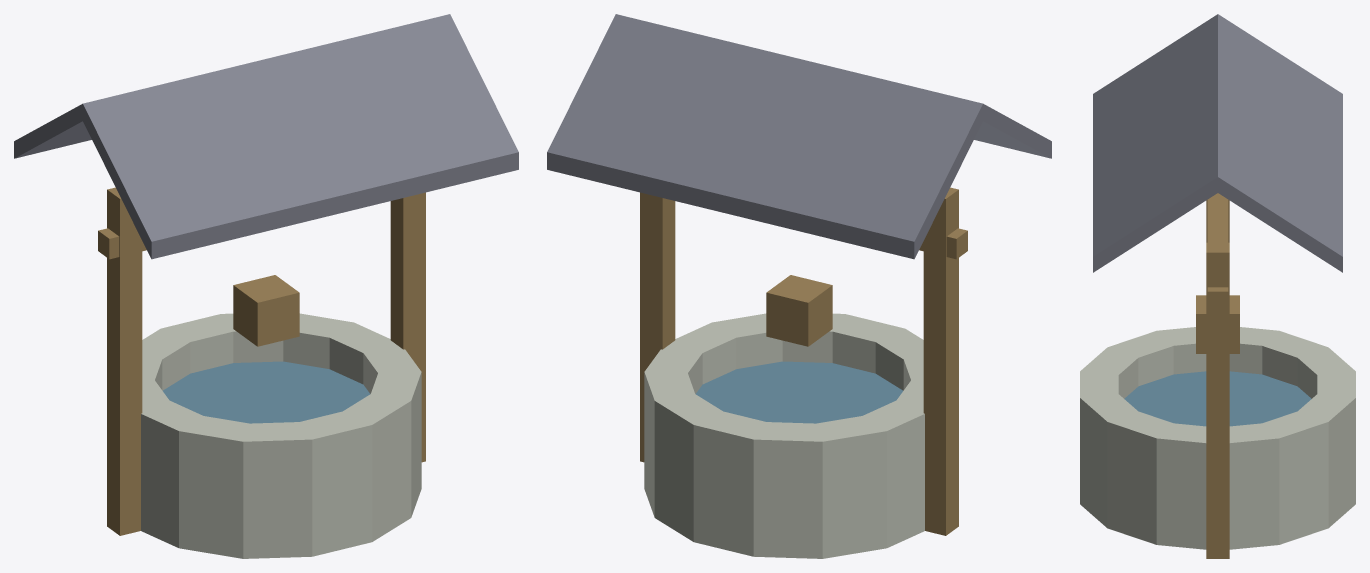
File: well_s2_02.glb
3 views of the same model, side by side, from view 1: azimuth 30°, elevation 25°; view 2: azimuth 150°, elevation 25°; view 3: azimuth 270°, elevation 25° (orthographic). The views are drawn at different scales.
Visible parts, largest first — view 1: part01, part03, part02, part00; view 2: part01, part03, part02, part00; view 3: part01, part03, part02, part00.
Part boxes in pixels (x1,y1,x2,y2): part01: (14,14,518,259); part03: (141,313,421,558); part02: (98,187,425,535); part00: (163,361,369,423); part01: (547,14,1051,259); part03: (644,313,924,558); part02: (640,187,967,535); part00: (696,361,902,423); part01: (1093,14,1342,272); part03: (1080,327,1355,549); part02: (1196,193,1239,558); part00: (1124,371,1311,426).
Size of the model in its own units: 2.62 by 2.97 by 1.88.
